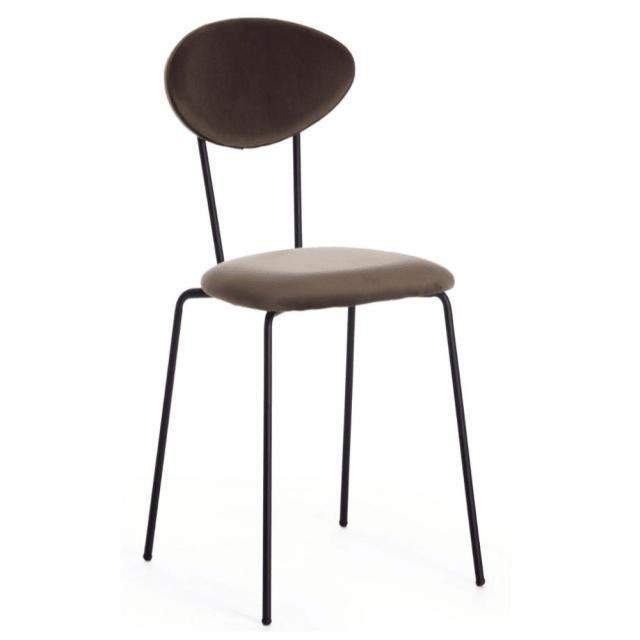chair: (138, 10, 490, 630), (161, 16, 456, 310)
